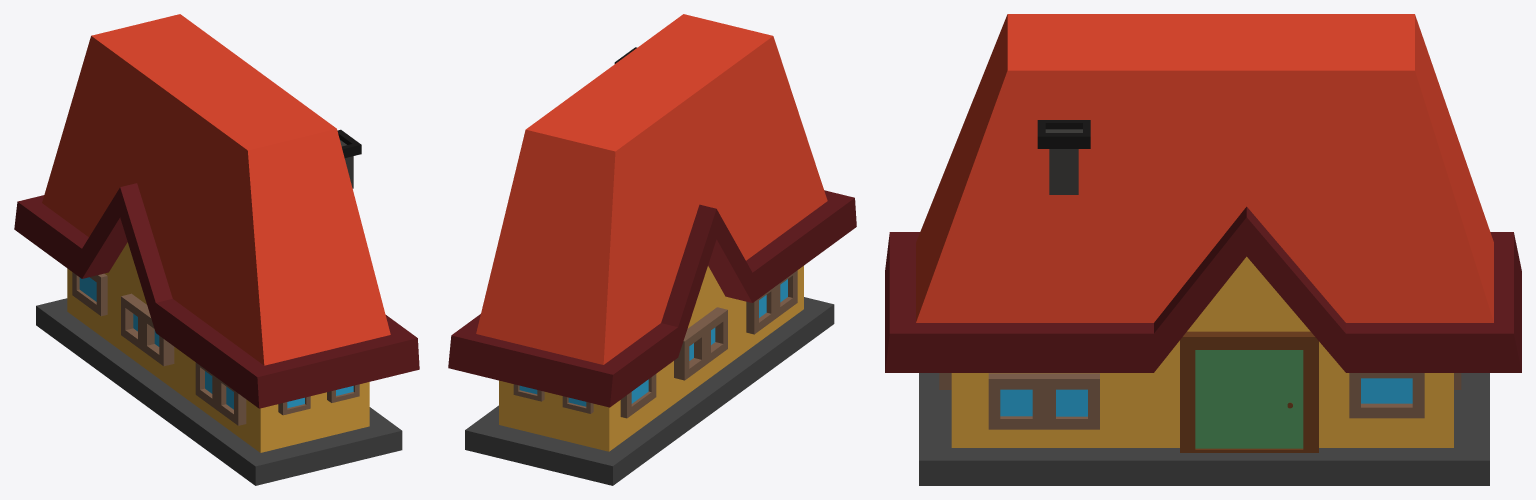
The model's file is house.glb.
The picture shows the model from 3 angles, left to right: view 1: azimuth 30°, elevation 25°; view 2: azimuth 150°, elevation 25°; view 3: azimuth 270°, elevation 25°; orthographic projection. The views are drawn at different scales.
Parts seen in each view (by area): view 1: Plane.001, Plane, Plane.004, Plane.002; view 2: Plane.001, Plane, Plane.004; view 3: Plane.001, Plane, Plane.003, Plane.004, Plane.002.
Boxes of the visible parts, x1,y1,x2,y2 form: Plane.001: (14,14,419,408); Plane: (36,242,402,485); Plane.004: (72,272,359,425); Plane.002: (337,129,361,188); Plane.001: (448,14,856,407); Plane: (465,266,834,485); Plane.004: (513,270,797,418); Plane.001: (885,14,1521,372); Plane: (919,256,1489,485); Plane.003: (1180,331,1318,452); Plane.004: (939,373,1461,429); Plane.002: (1037,120,1090,194).
Bounding box in the file's own units: 1.01 × 1.82 × 2.66.
